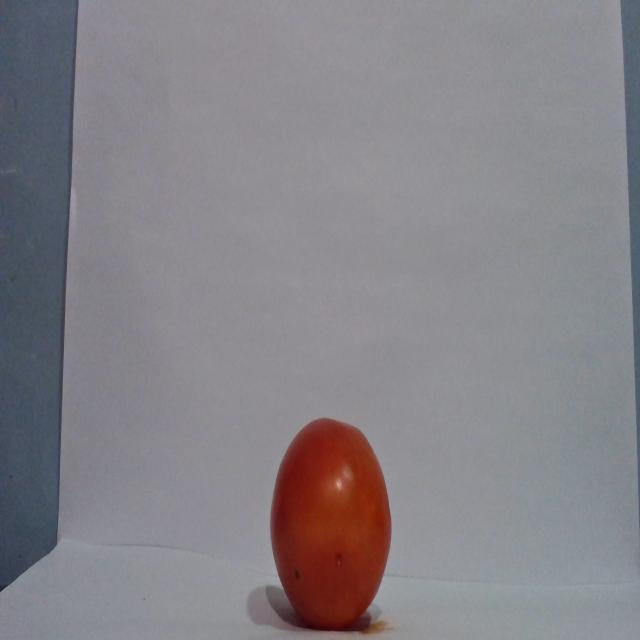Red: (268, 416, 392, 629)
